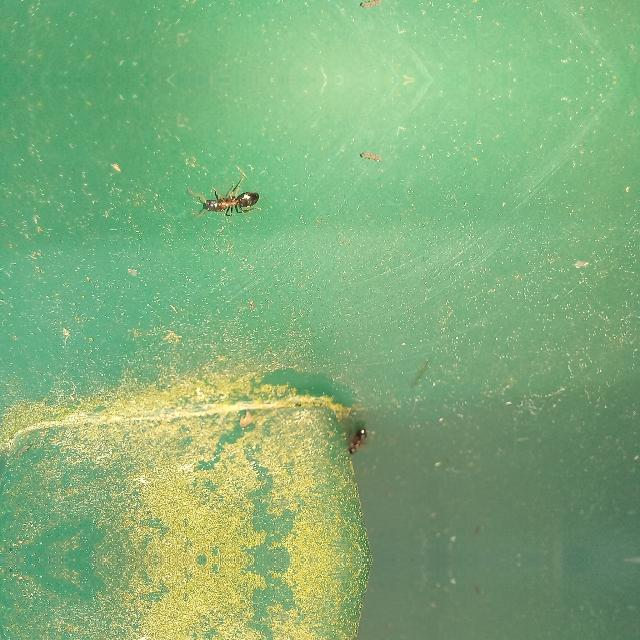Dolichoderus: (197, 184, 263, 218), (341, 426, 374, 458)
